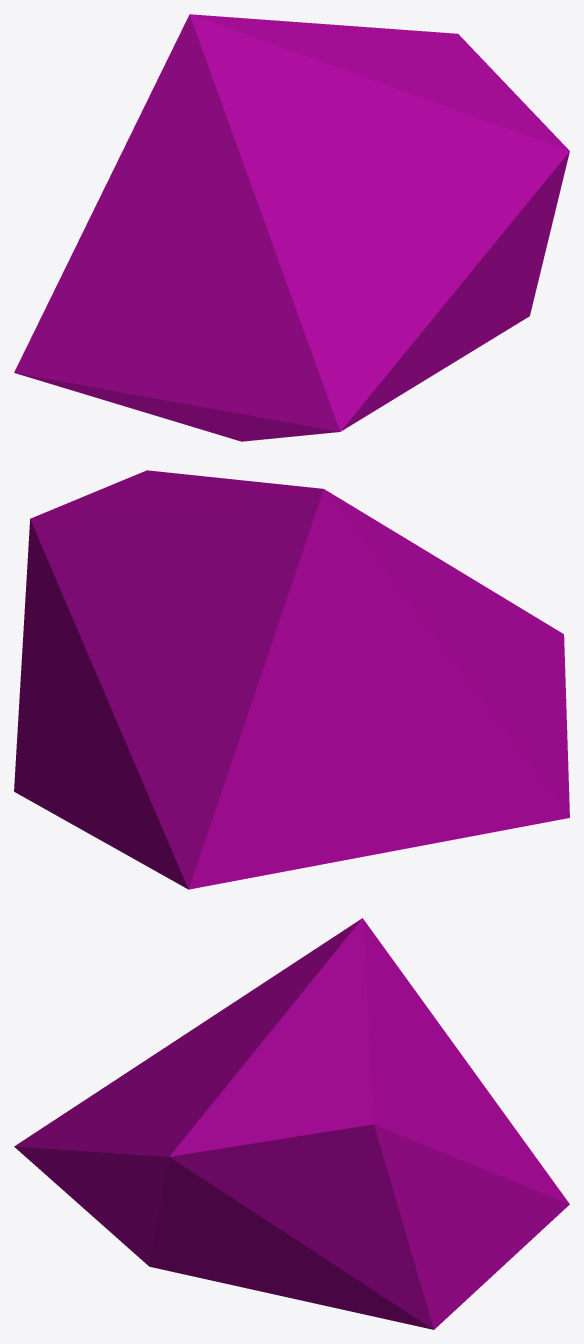
The model's file is Collider_Small_Rock_002.fbx.
3 views of the same model, one above another, from view 1: azimuth 30°, elevation 25°; view 2: azimuth 150°, elevation 25°; view 3: azimuth 270°, elevation 25° (orthographic). The views are drawn at different scales.
Visible parts, largest first — view 1: Collider_Small_Rock_002; view 2: Collider_Small_Rock_002; view 3: Collider_Small_Rock_002.
Boxes of the visible parts, x1,y1,x2,y2 form: Collider_Small_Rock_002: [14, 14, 569, 441]; Collider_Small_Rock_002: [14, 470, 569, 889]; Collider_Small_Rock_002: [14, 918, 569, 1329].
Size of the model in its own units: 0.4991 by 0.3691 by 0.5461.
